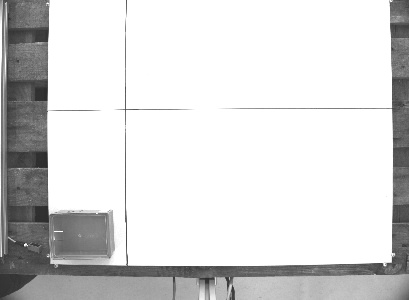klts: (45, 205, 118, 263)
